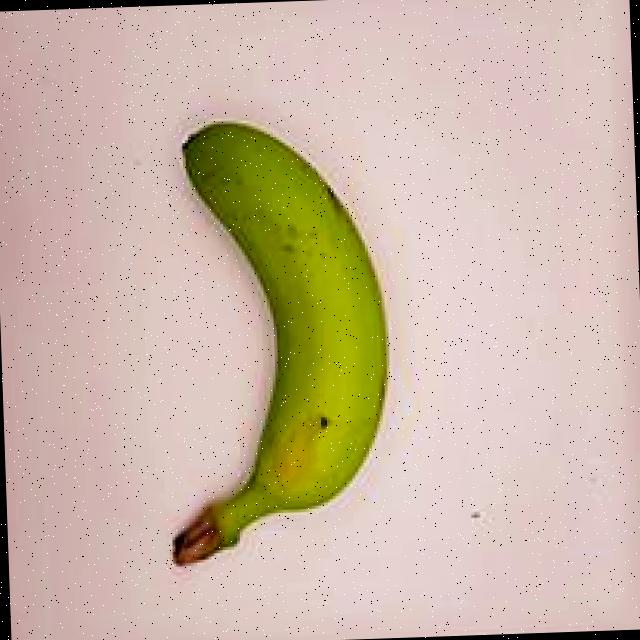Unripe: (104, 86, 439, 584)
